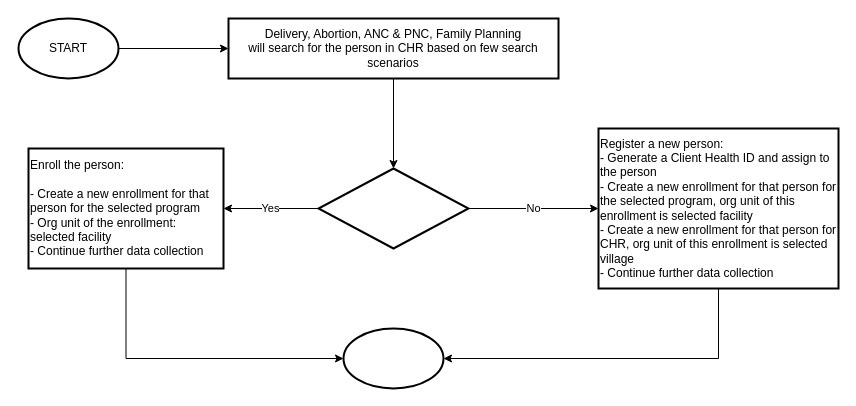
This 856x406 diagram has some shape labels left out. Each missing label, with the centre of its shape:
"END" belongs at pixel 393 358.
"Person available?" belongs at pixel 393 208.
